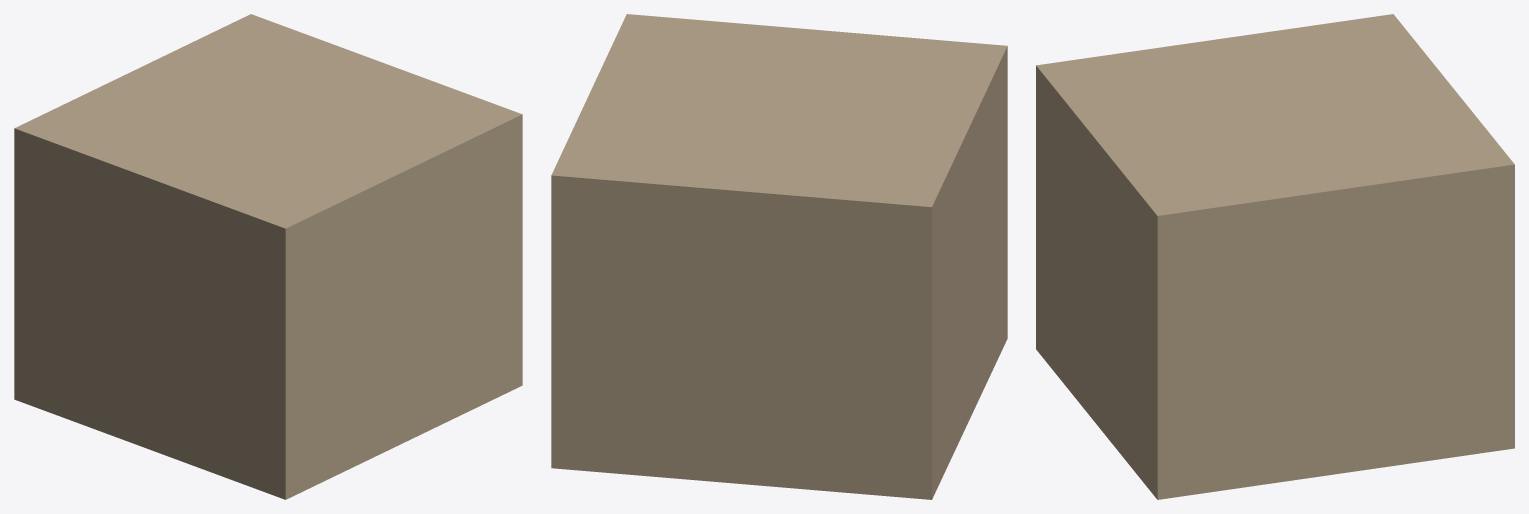
File: bld_100469320.dae
3 views of the same model, side by side, from view 1: azimuth 30°, elevation 25°; view 2: azimuth 150°, elevation 25°; view 3: azimuth 270°, elevation 25° (orthographic). The views are drawn at different scales.
Visible parts, largest first — view 1: bld_100469320; view 2: bld_100469320; view 3: bld_100469320.
Part boxes in pixels (box(x1,y1,x2,y2)): bld_100469320: box(14, 14, 522, 499); bld_100469320: box(551, 14, 1007, 499); bld_100469320: box(1036, 14, 1514, 499).
Size of the model in its own units: 12.2 by 12.22 by 8.
